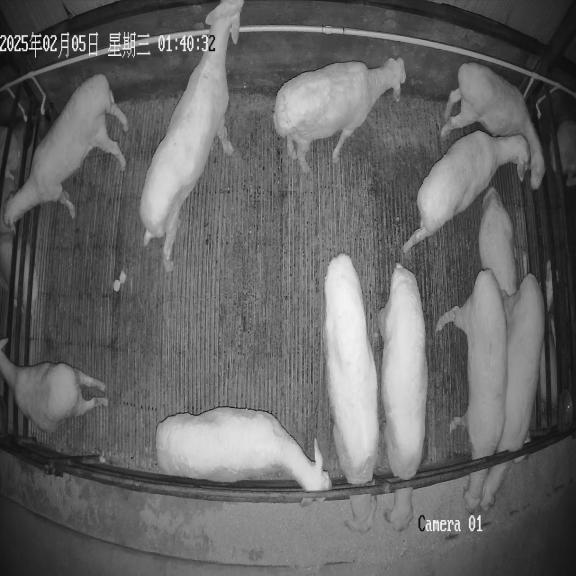eating: (436, 270, 507, 512), (324, 254, 379, 532), (480, 274, 544, 510), (378, 263, 428, 530)
lying: (478, 186, 518, 296)
stand: (140, 0, 243, 271), (4, 74, 128, 229), (403, 130, 529, 253), (273, 58, 406, 172), (156, 407, 332, 491), (441, 62, 544, 189), (0, 340, 108, 433)
